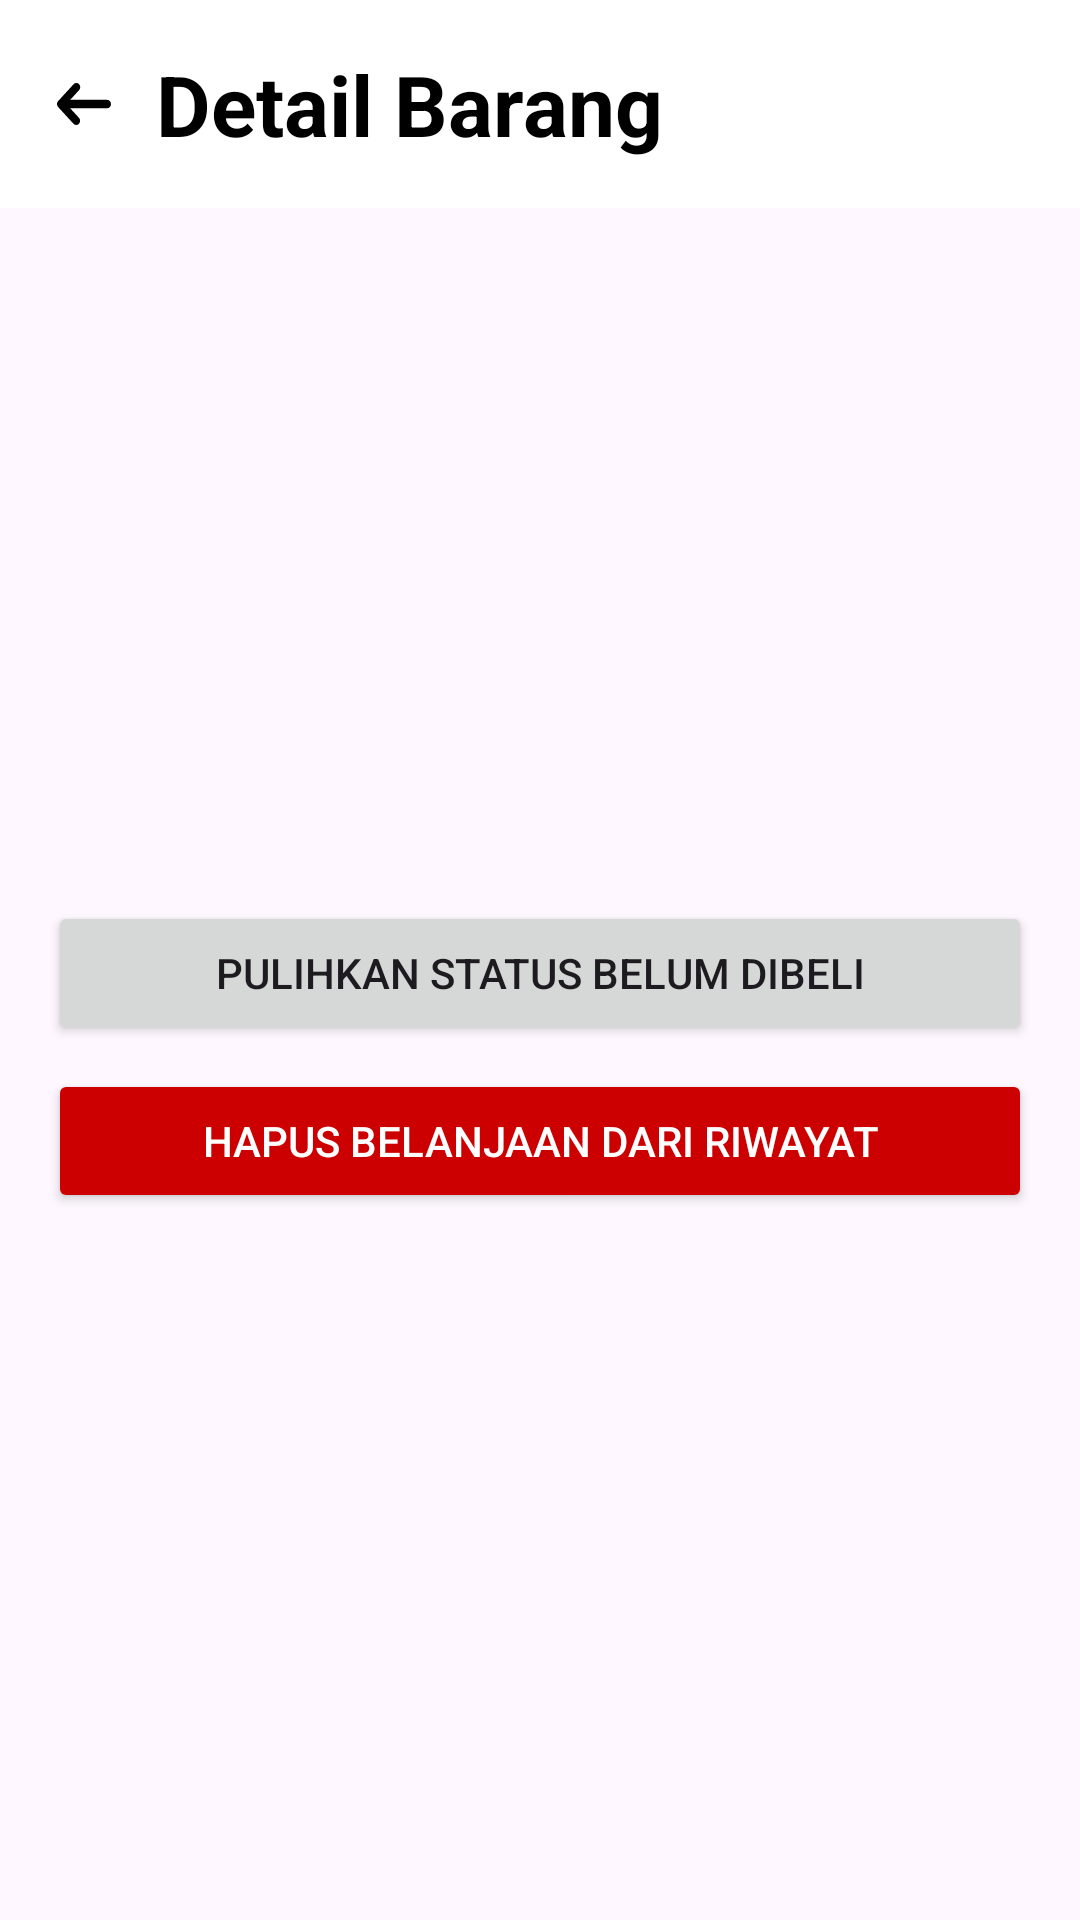

Screen size 1080*1920. Icon name, then its box in pixels as detection(x1, y1, x2, y2):
Back Button: detection(57, 83, 111, 125)
